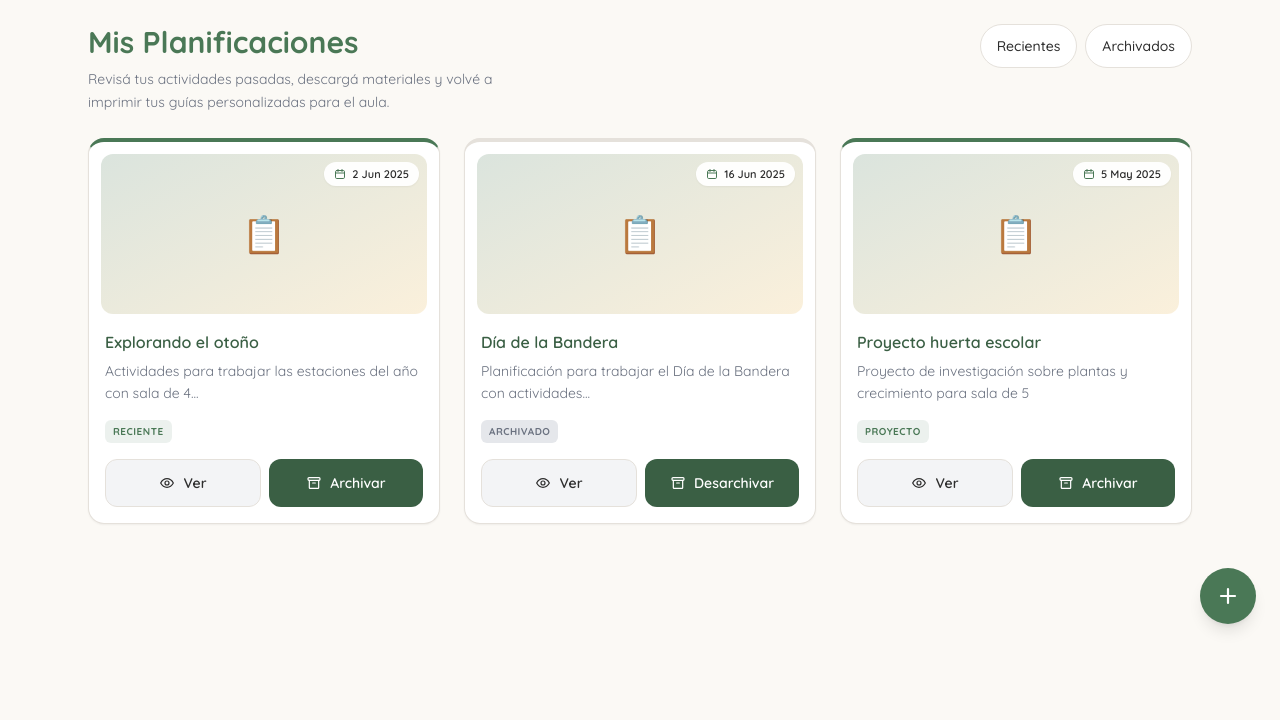
Test case: HistoryPage › los filter chips funcionan correctamente
Check: the heading "Explorando el otoño" is shown, box [105,332,259,352]
# Click Archivados filter
Click the button "Archivados" at (1139, 46), box [1085,24,1192,68]
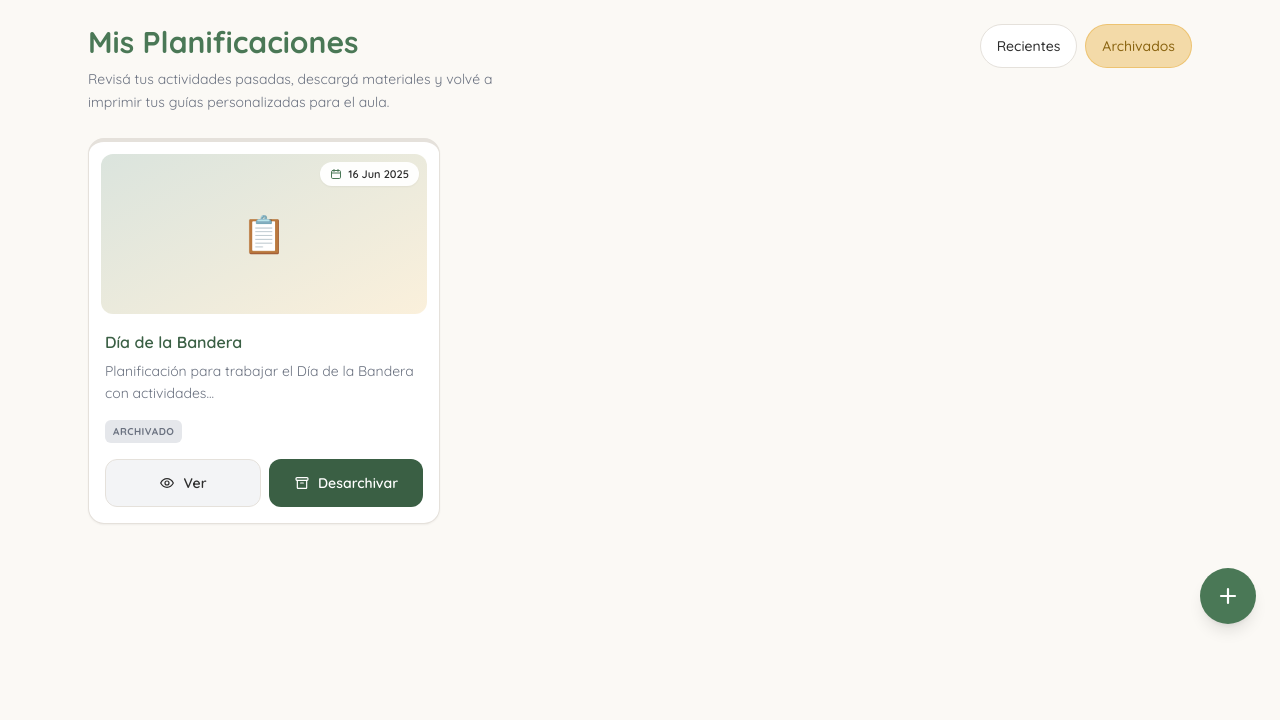
Check: the heading "Día de la Bandera" is shown, box [105,332,242,352]
Check: the heading "Explorando el otoño" is gone
Check: the heading "Proyecto huerta escolar" is gone
